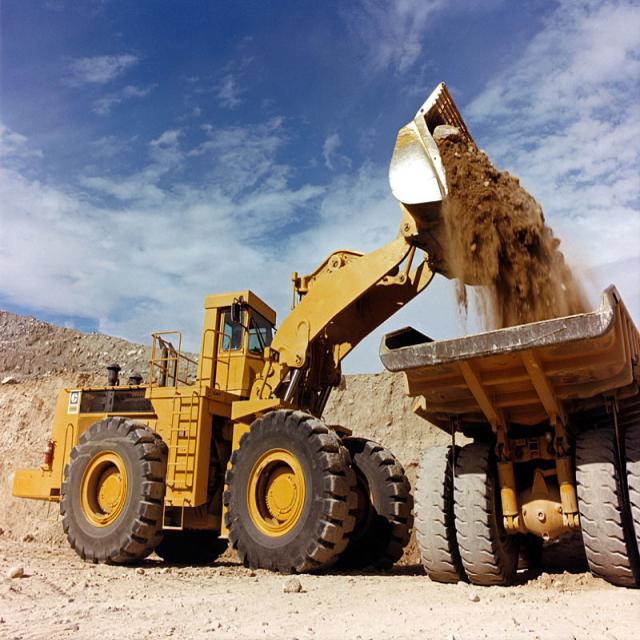buldozerpayloadergrader: (18, 61, 485, 578)
dump_truck: (380, 284, 639, 604)
